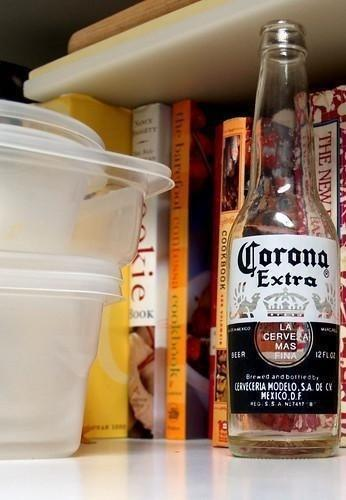bottle-glass: (225, 17, 345, 461)
